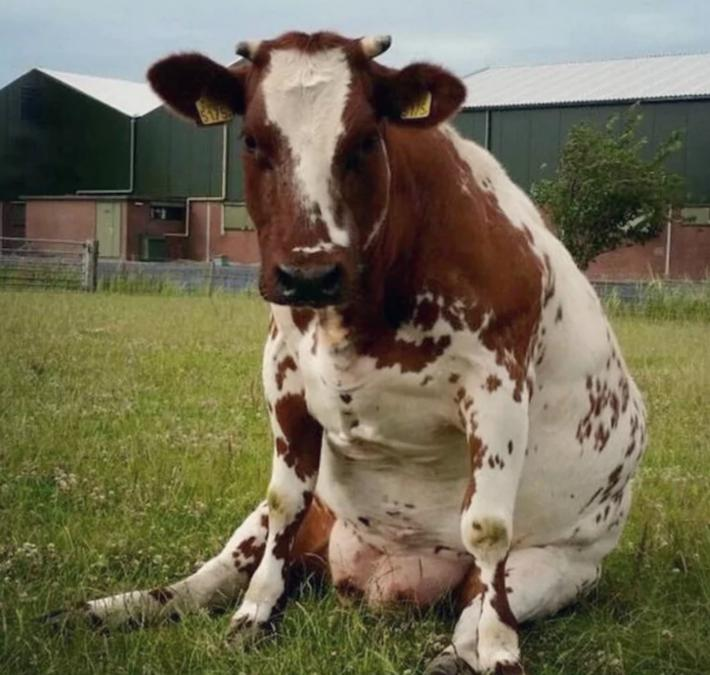muzzles: (253, 255, 364, 315)
